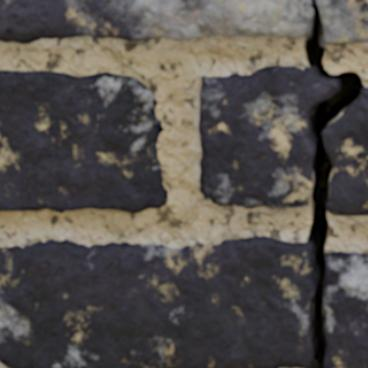brick: (0, 71, 167, 212)
broken_brick: (0, 235, 311, 367), (198, 65, 334, 210), (0, 0, 313, 44), (324, 87, 367, 217), (325, 251, 367, 367), (317, 0, 367, 46)
crack: (302, 0, 365, 367), (209, 30, 242, 35), (359, 254, 367, 256)
